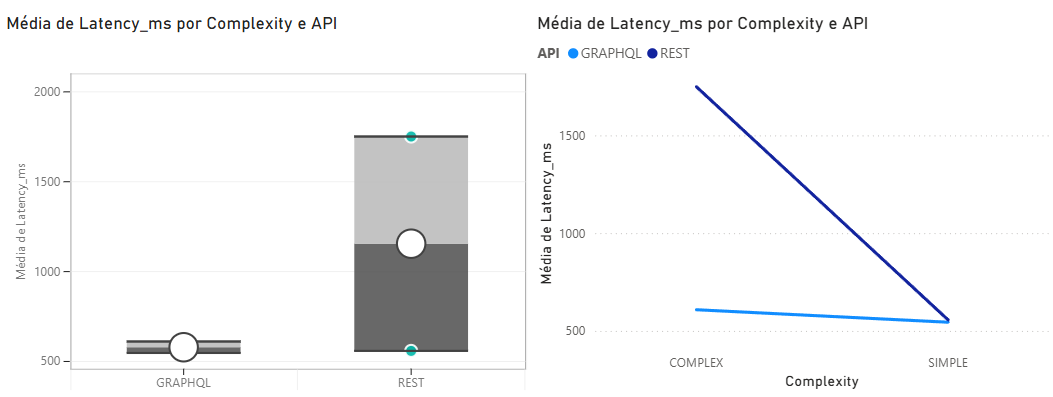

The page's visual inventory and layout, read from the dashboard file:
{"tool":"powerbi","page":{"name":"RQ01","canvas":[1280,720],"ordinal":0},"visuals":[{"type":"BoxandWhiskerByMAQ1823AD39DT234AB532063E128AX","fields":{"measure":["Avg(resultados_github_exp.Latency_ms)"],"category":["resultados_github_exp.Complexity"],"categoryGroup":["resultados_github_exp.API"]},"box":[255.8,173.1,516.5,371.6],"z":0},{"type":"lineChart","fields":{"Category":["resultados_github_exp.Complexity"],"Y":["Avg(resultados_github_exp.Latency_ms)"],"Series":["resultados_github_exp.API"]},"box":[772.3,173.1,507.7,371.6],"z":1}]}

Visuals, with their boxes on the page's 1280x720 design canvas (x1, y1, x2, y2). These are canvas units, not pixel positions in the 1053x397 screenshot, which may show the page scaled, cropped or inside an application window:
BoxandWhiskerByMAQ1823AD39DT234AB532063E128AX - Avg(resultados_github_exp.Latency_ms) x resultados_github_exp.Complexity: [left=256, top=173, right=772, bottom=545]
lineChart - resultados_github_exp.Complexity x Avg(resultados_github_exp.Latency_ms): [left=772, top=173, right=1280, bottom=545]
